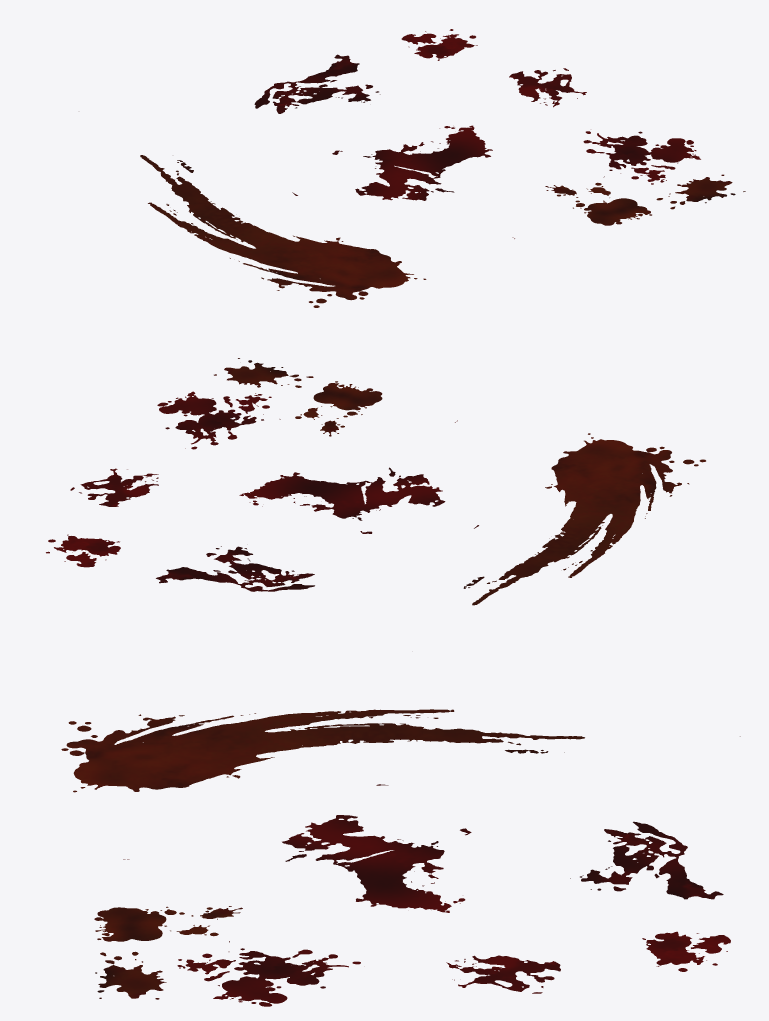
The model's file is 2_Misc_Xue_01.FBX.
The picture shows the model from 3 angles, top to bottom: view 1: azimuth 30°, elevation 25°; view 2: azimuth 150°, elevation 25°; view 3: azimuth 270°, elevation 25°; orthographic projection. The views are drawn at different scales.
Parts seen in each view (by area): view 1: 2_Misc_Xue_01_01, 2_Misc_Xue_01_02, 2_Misc_Xue_01_04, 2_Misc_Xue_01_06, 2_Misc_Xue_01_03, 2_Misc_Xue_01_07, 2_Misc_Xue_01_08, 2_Misc_Xue_01_05; view 2: 2_Misc_Xue_01_01, 2_Misc_Xue_01_02, 2_Misc_Xue_01_04, 2_Misc_Xue_01_06, 2_Misc_Xue_01_03, 2_Misc_Xue_01_07, 2_Misc_Xue_01_08, 2_Misc_Xue_01_05; view 3: 2_Misc_Xue_01_01, 2_Misc_Xue_01_02, 2_Misc_Xue_01_04, 2_Misc_Xue_01_06, 2_Misc_Xue_01_03, 2_Misc_Xue_01_07, 2_Misc_Xue_01_08, 2_Misc_Xue_01_05.
Boxes of the visible parts, x1,y1,x2,y2 form: 2_Misc_Xue_01_01: (140, 155, 426, 307); 2_Misc_Xue_01_02: (332, 125, 514, 238); 2_Misc_Xue_01_04: (583, 131, 700, 184); 2_Misc_Xue_01_06: (254, 54, 380, 113); 2_Misc_Xue_01_03: (545, 176, 651, 225); 2_Misc_Xue_01_07: (509, 68, 586, 107); 2_Misc_Xue_01_08: (401, 29, 477, 60); 2_Misc_Xue_01_05: (656, 174, 745, 209); 2_Misc_Xue_01_01: (463, 433, 705, 605); 2_Misc_Xue_01_02: (239, 420, 457, 533); 2_Misc_Xue_01_04: (157, 391, 271, 449); 2_Misc_Xue_01_06: (156, 546, 314, 591); 2_Misc_Xue_01_03: (279, 381, 382, 436); 2_Misc_Xue_01_07: (70, 468, 158, 506); 2_Misc_Xue_01_08: (46, 534, 120, 567); 2_Misc_Xue_01_05: (214, 358, 313, 387); 2_Misc_Xue_01_01: (61, 709, 740, 792); 2_Misc_Xue_01_02: (123, 815, 471, 912); 2_Misc_Xue_01_04: (177, 948, 360, 1006); 2_Misc_Xue_01_06: (570, 821, 723, 899); 2_Misc_Xue_01_03: (94, 906, 242, 942); 2_Misc_Xue_01_07: (446, 955, 560, 993); 2_Misc_Xue_01_08: (642, 931, 730, 971); 2_Misc_Xue_01_05: (95, 951, 166, 999).
Bounding box in the file's own units: 1434 × 3.94e-13 × 1458.
